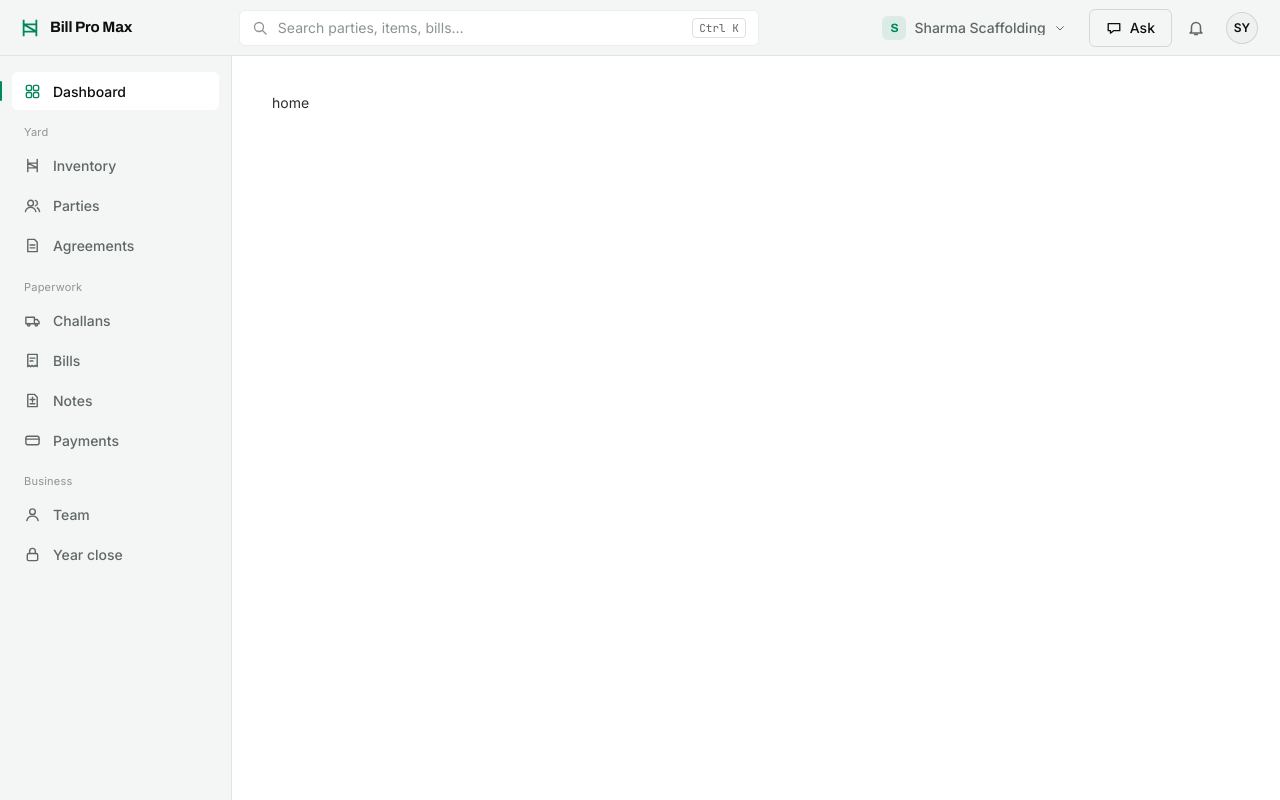
Layout › closes the assistant from its own close button
The image size is (1280, 800).
Click the button "Ask" at coordinates (1130, 28), box [1089,8,1172,46]
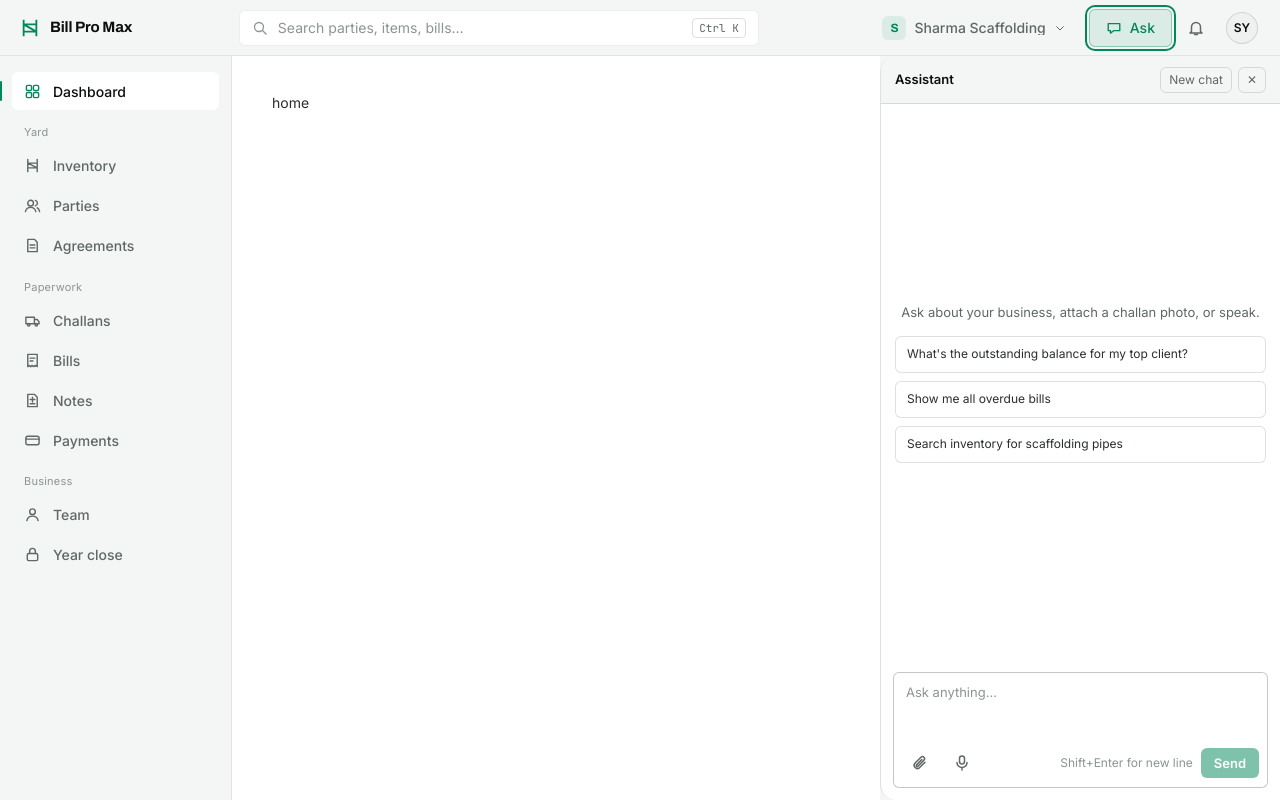
Click the button named "Close assistant" at coordinates (1252, 80), box [1238,66,1266,92]
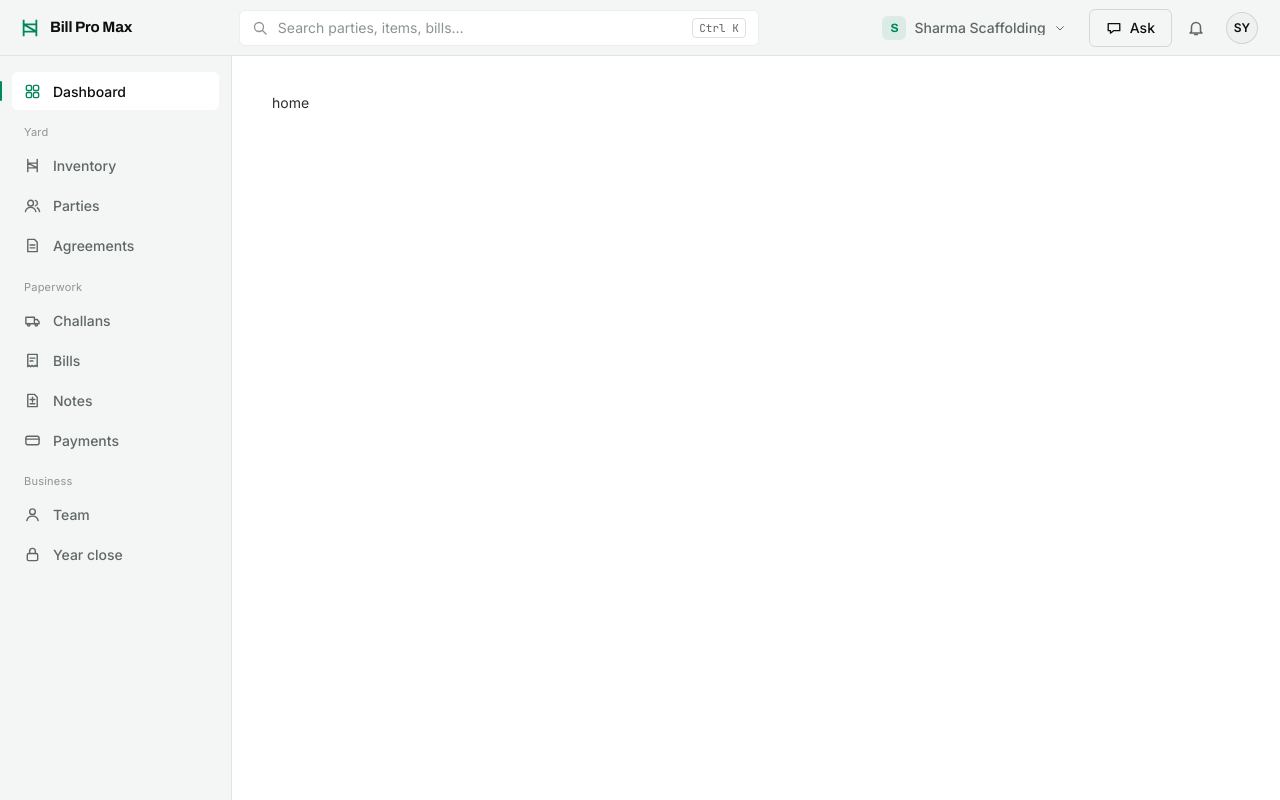
Expected: the button "Ask" is not pressed, [1089,8,1172,46]
